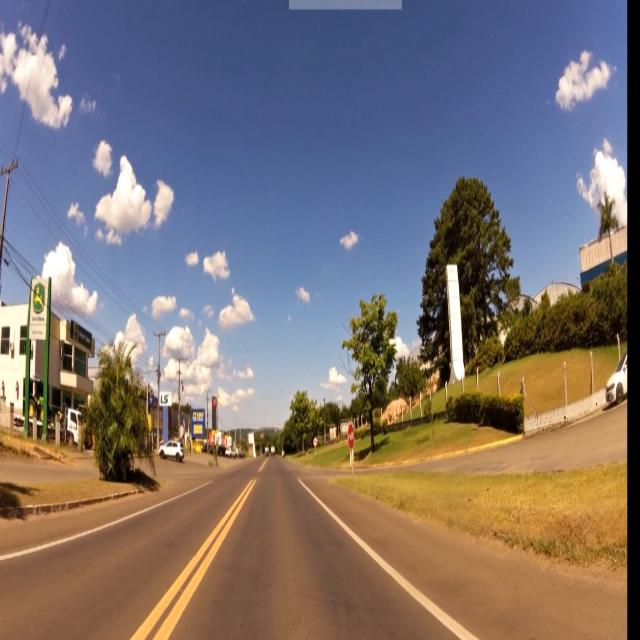R-1: (346, 423, 358, 448)
